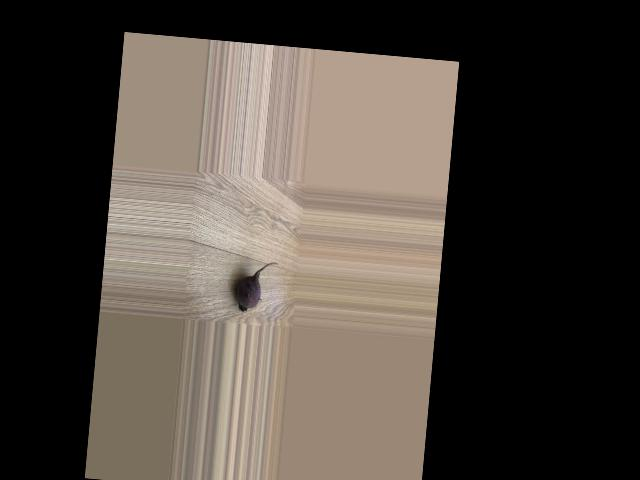beet: (234, 257, 278, 313)
